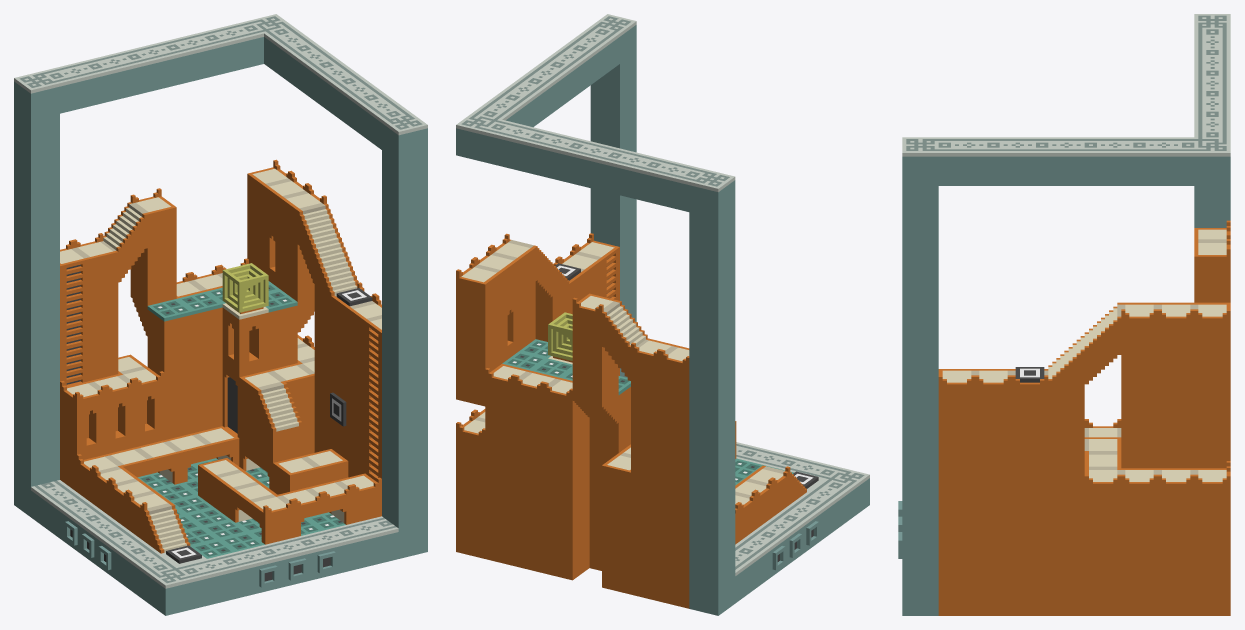
The model's file is monu16.glb.
3 views of the same model, side by side, from view 1: azimuth 30°, elevation 25°; view 2: azimuth 150°, elevation 25°; view 3: azimuth 270°, elevation 25° (orthographic). The views are drawn at different scales.
Parts seen in each view (by area): view 1: default; view 2: default; view 3: default.
Part boxes in pixels (bbox=[...]): default: bbox=[14, 14, 427, 615]; default: bbox=[456, 14, 869, 615]; default: bbox=[898, 14, 1230, 615].
Bounding box in the file's own units: 82 × 126 × 82.
Materials: 1 (1 with a texture image).
